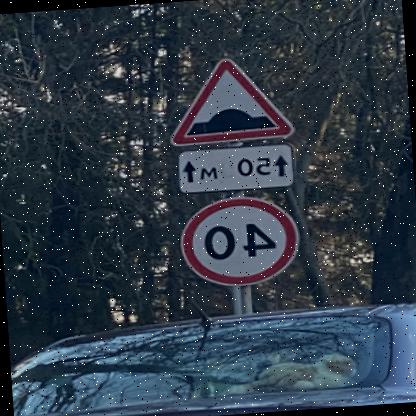speedlimit: (182, 190, 307, 288)
